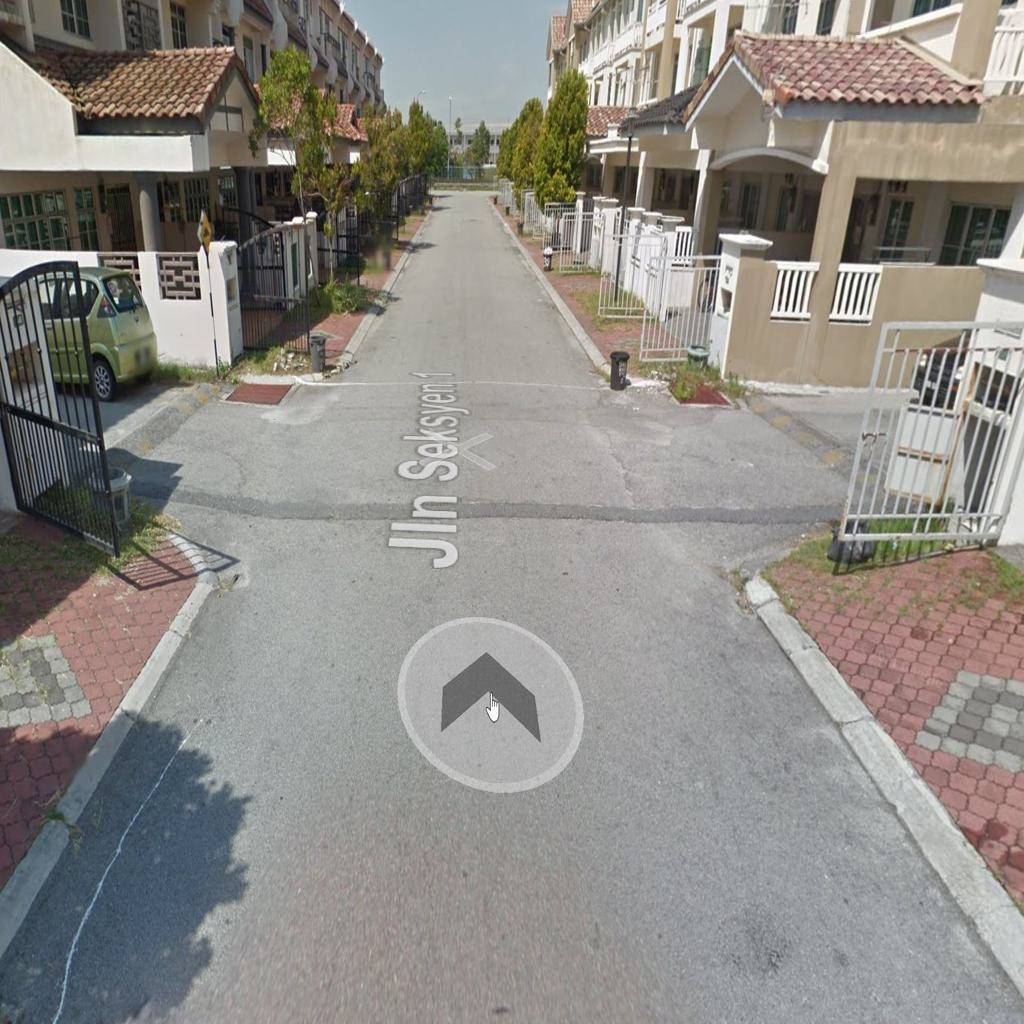Junction: (572, 340, 946, 608), (52, 331, 415, 577)
